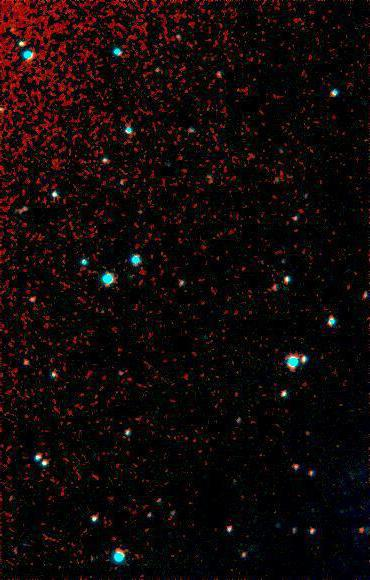star: (347, 515, 370, 545)
